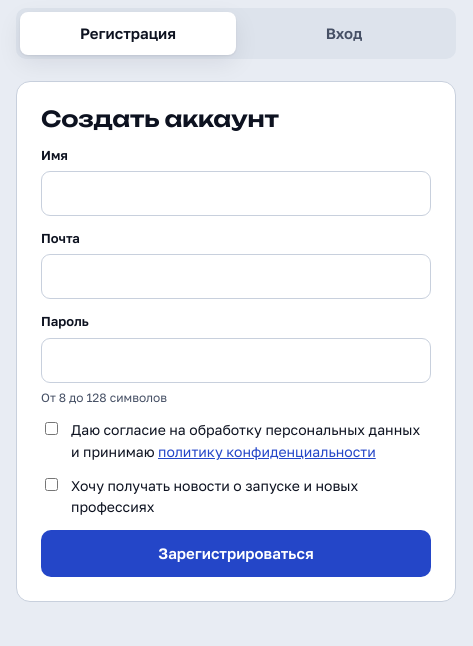
RegisterPage › занятая почта — ошибка у поля и ссылка «Войти»
Type "Иван" into the field labelled "Имя".
click(236, 193); type("Иван")  # box [41,171,431,216]
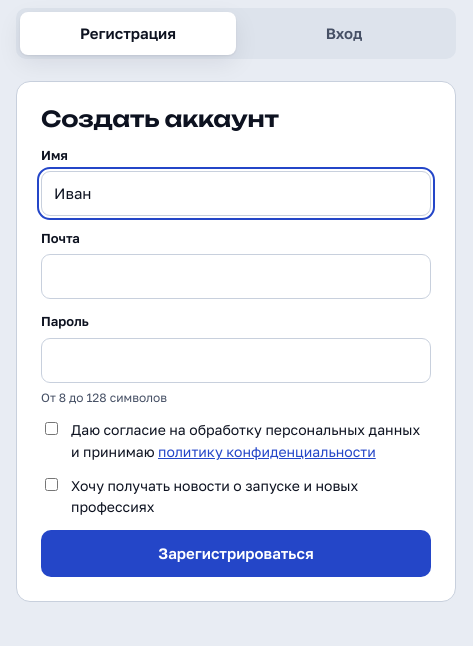
Type "ivan@example.ru" into the field labelled "Почта".
click(236, 277); type("ivan@example.ru")  # box [41,254,431,300]
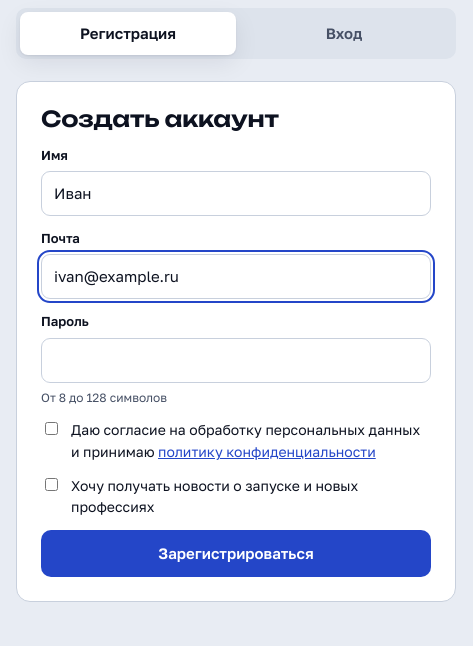
Type "секрет123" into the password field labelled "Пароль".
click(236, 360); type("секрет123")  # box [41,338,431,383]
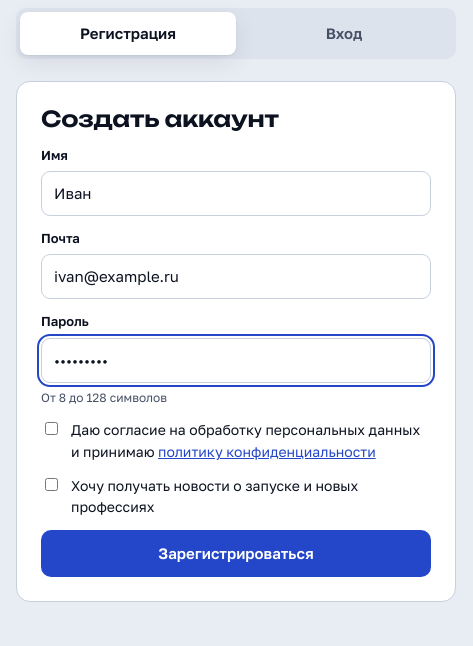
Click the checkbox labelled "персональных данных".
click(52, 429)  # box [45,422,58,435]
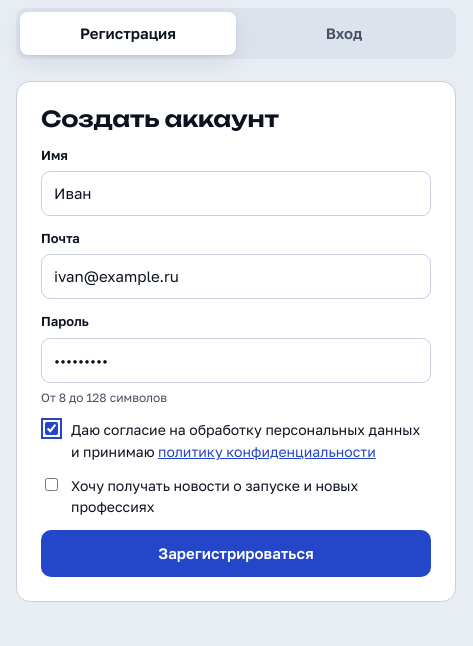
Click the button "Зарегистрироваться".
click(236, 554)  # box [41,530,431,578]
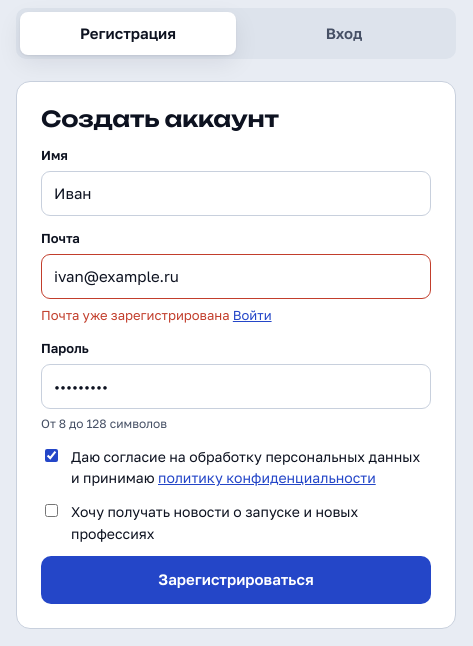
Result: the text "Почта уже зарегистрирована" is shown at [41,307,230,323]
Result: the link "Войти" is shown at [233,307,272,323]
